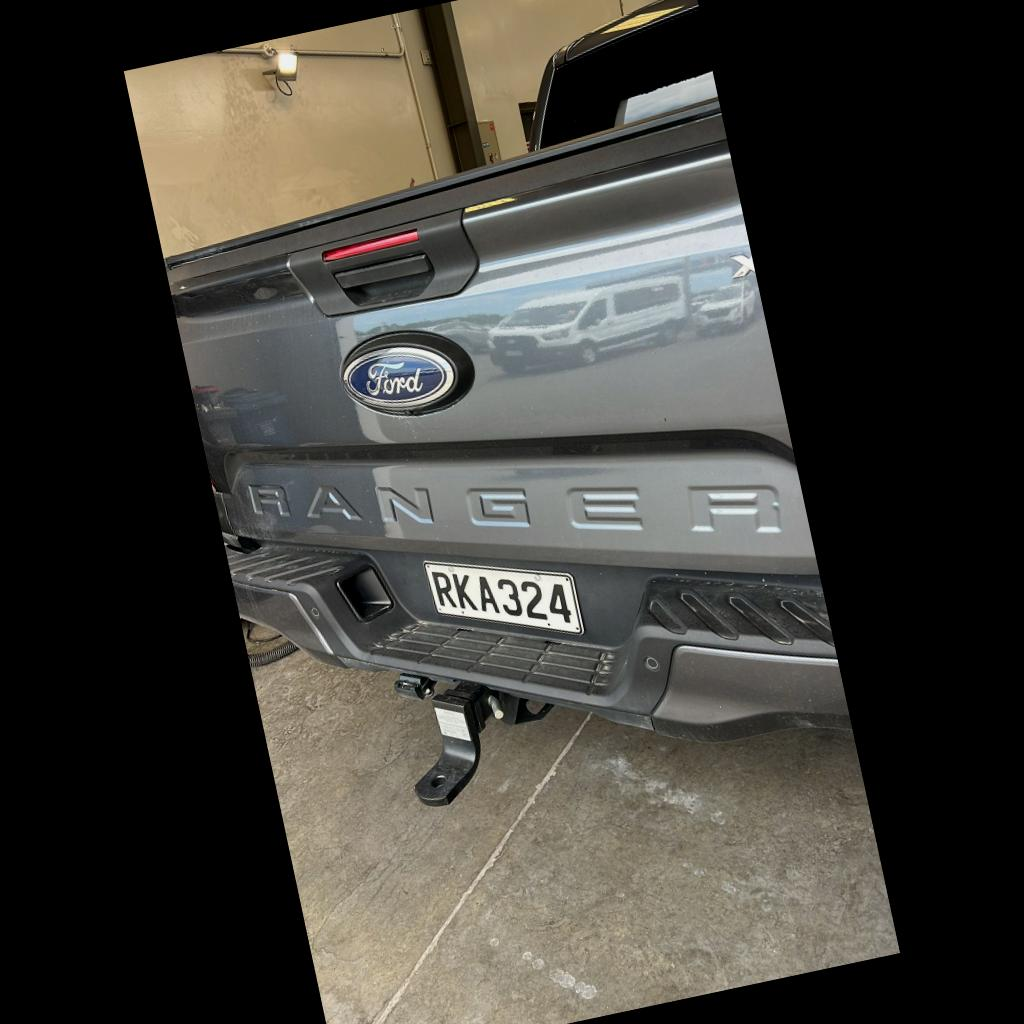Number-Plates: (416, 549, 605, 652)
